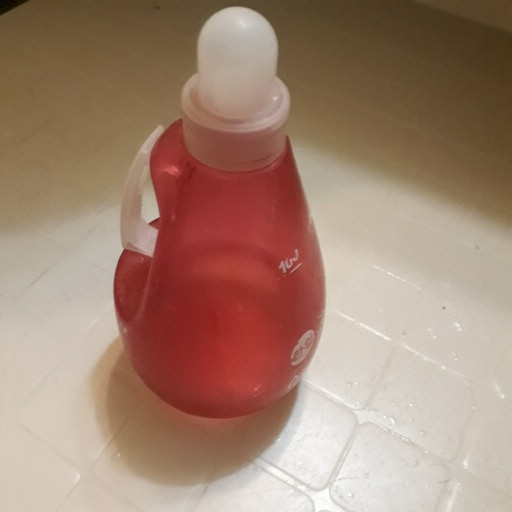Plastic_1: (114, 5, 327, 417)
